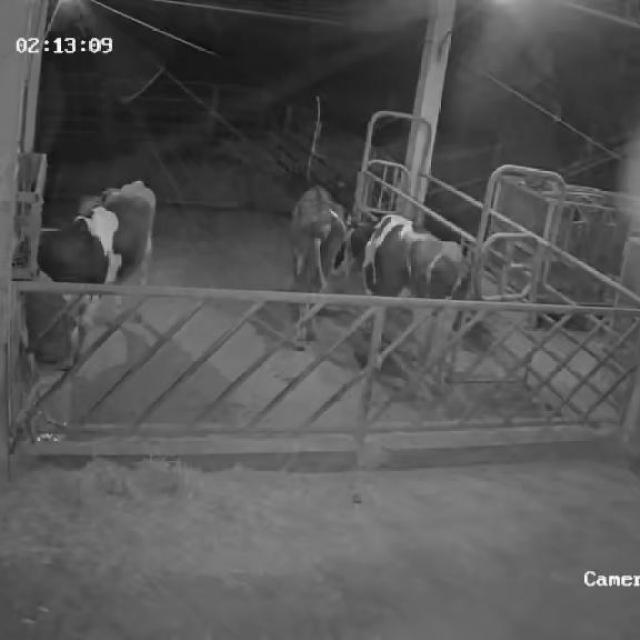drinking: (12, 174, 154, 378)
standing: (354, 209, 468, 393), (286, 184, 350, 345)
